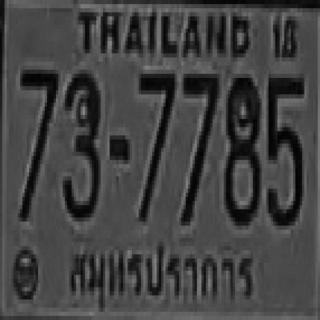N03: (61, 70, 98, 217)
N05: (265, 74, 303, 226)
N07: (19, 66, 57, 217), (136, 70, 174, 217), (181, 70, 217, 222)
N08: (224, 74, 260, 222)
P57: (62, 231, 263, 320)
